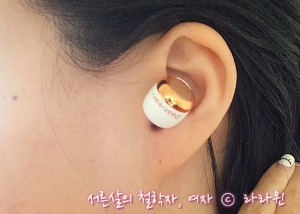earphone: (133, 21, 237, 172)
